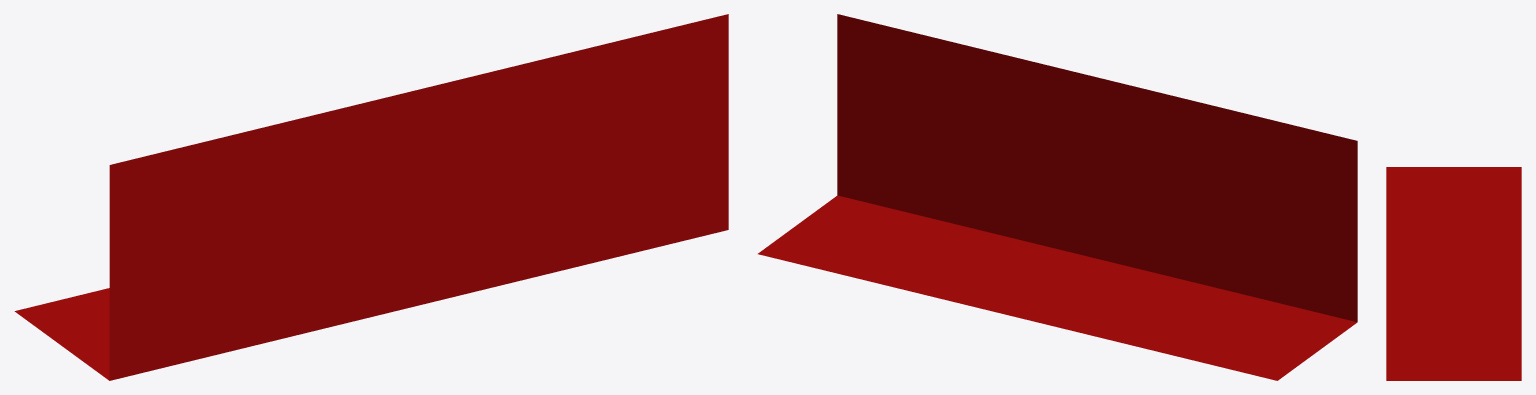
The model's file is SupportRoof3M.fbx.
3 views of the same model, side by side, from view 1: azimuth 30°, elevation 25°; view 2: azimuth 150°, elevation 25°; view 3: azimuth 270°, elevation 25° (orthographic). The views are drawn at different scales.
Visible parts, largest first — view 1: SupportRoof3M; view 2: SupportRoof3M; view 3: SupportRoof3M.
Part boxes in pixels (x1=…): SupportRoof3M: x1=14, y1=14, x2=728, y2=380; SupportRoof3M: x1=758, y1=14, x2=1357, y2=380; SupportRoof3M: x1=1386, y1=167, x2=1521, y2=380.
Size of the model in its own units: 300 by 100 by 80.
